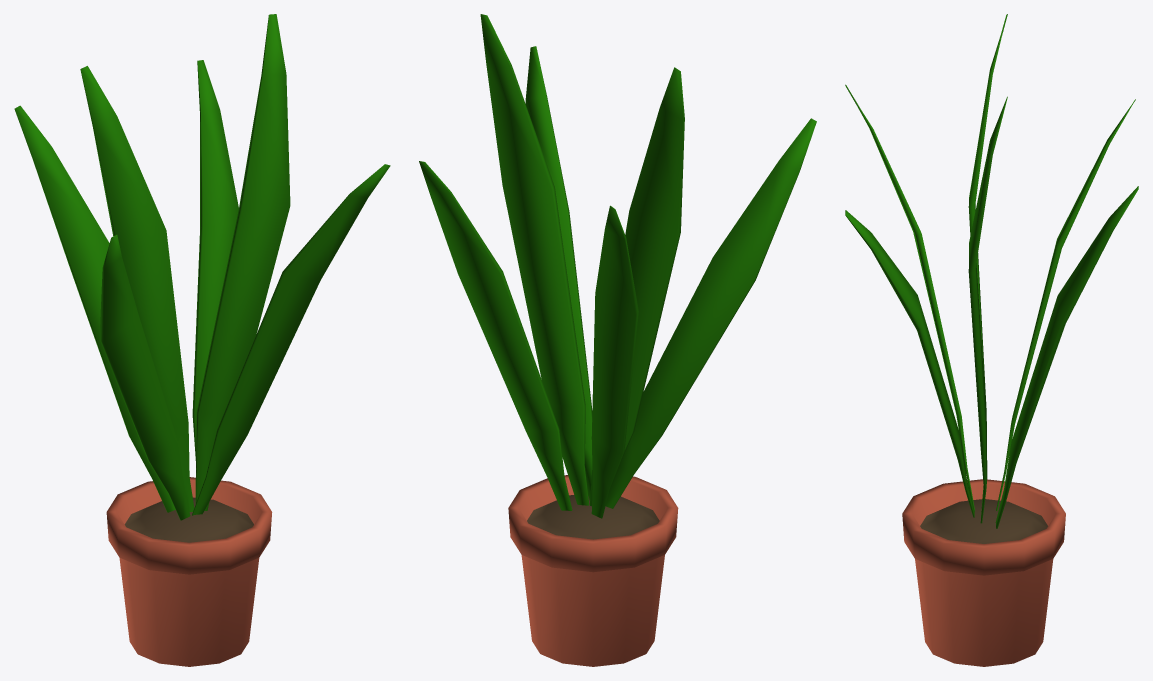
The model's file is Plant.fbx.
The picture shows the model from 3 angles, left to right: view 1: azimuth 30°, elevation 25°; view 2: azimuth 150°, elevation 25°; view 3: azimuth 270°, elevation 25°; orthographic projection. The views are drawn at different scales.
Parts seen in each view (by area): view 1: Plant; view 2: Plant; view 3: Plant.
Part boxes in pixels (left/top/right/bottom): Plant: left=14, top=14, right=390, bottom=666; Plant: left=419, top=14, right=816, bottom=666; Plant: left=845, top=14, right=1138, bottom=666.
Size of the model in its own units: 96.67 by 197 by 88.97.
